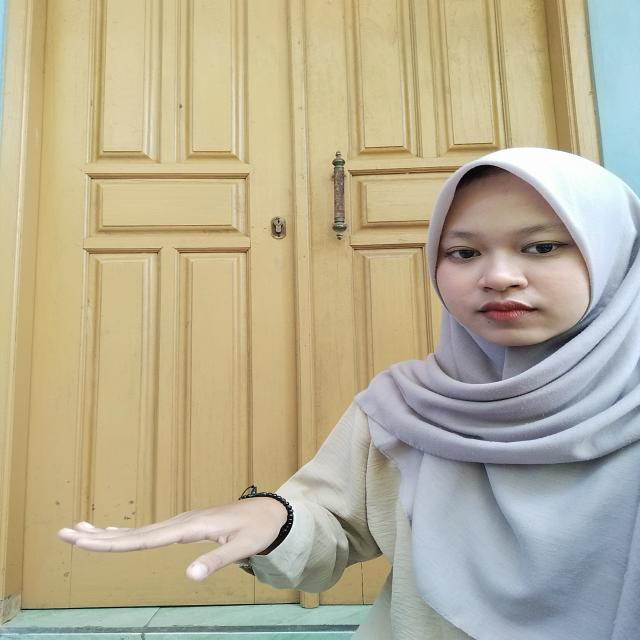adik: (39, 490, 304, 591)
